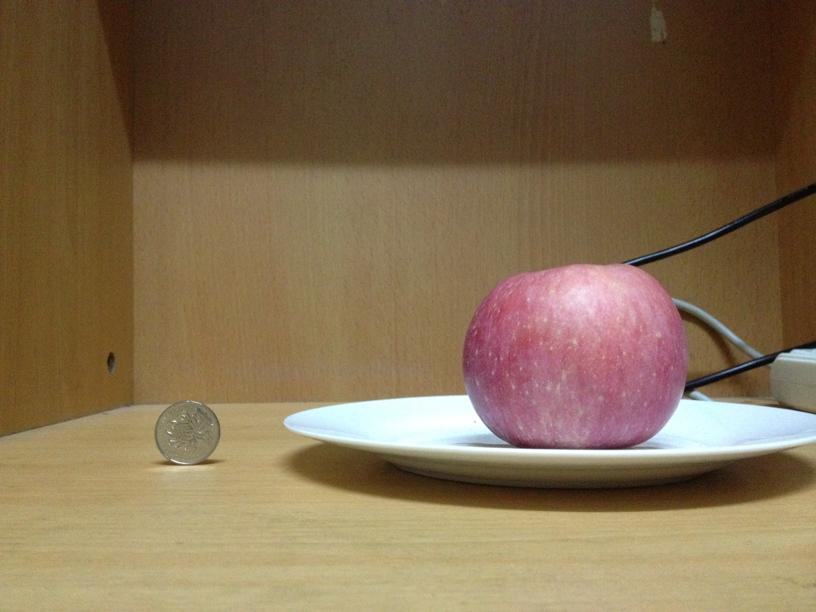apple: (463, 259, 686, 450)
coin: (155, 399, 222, 465)
